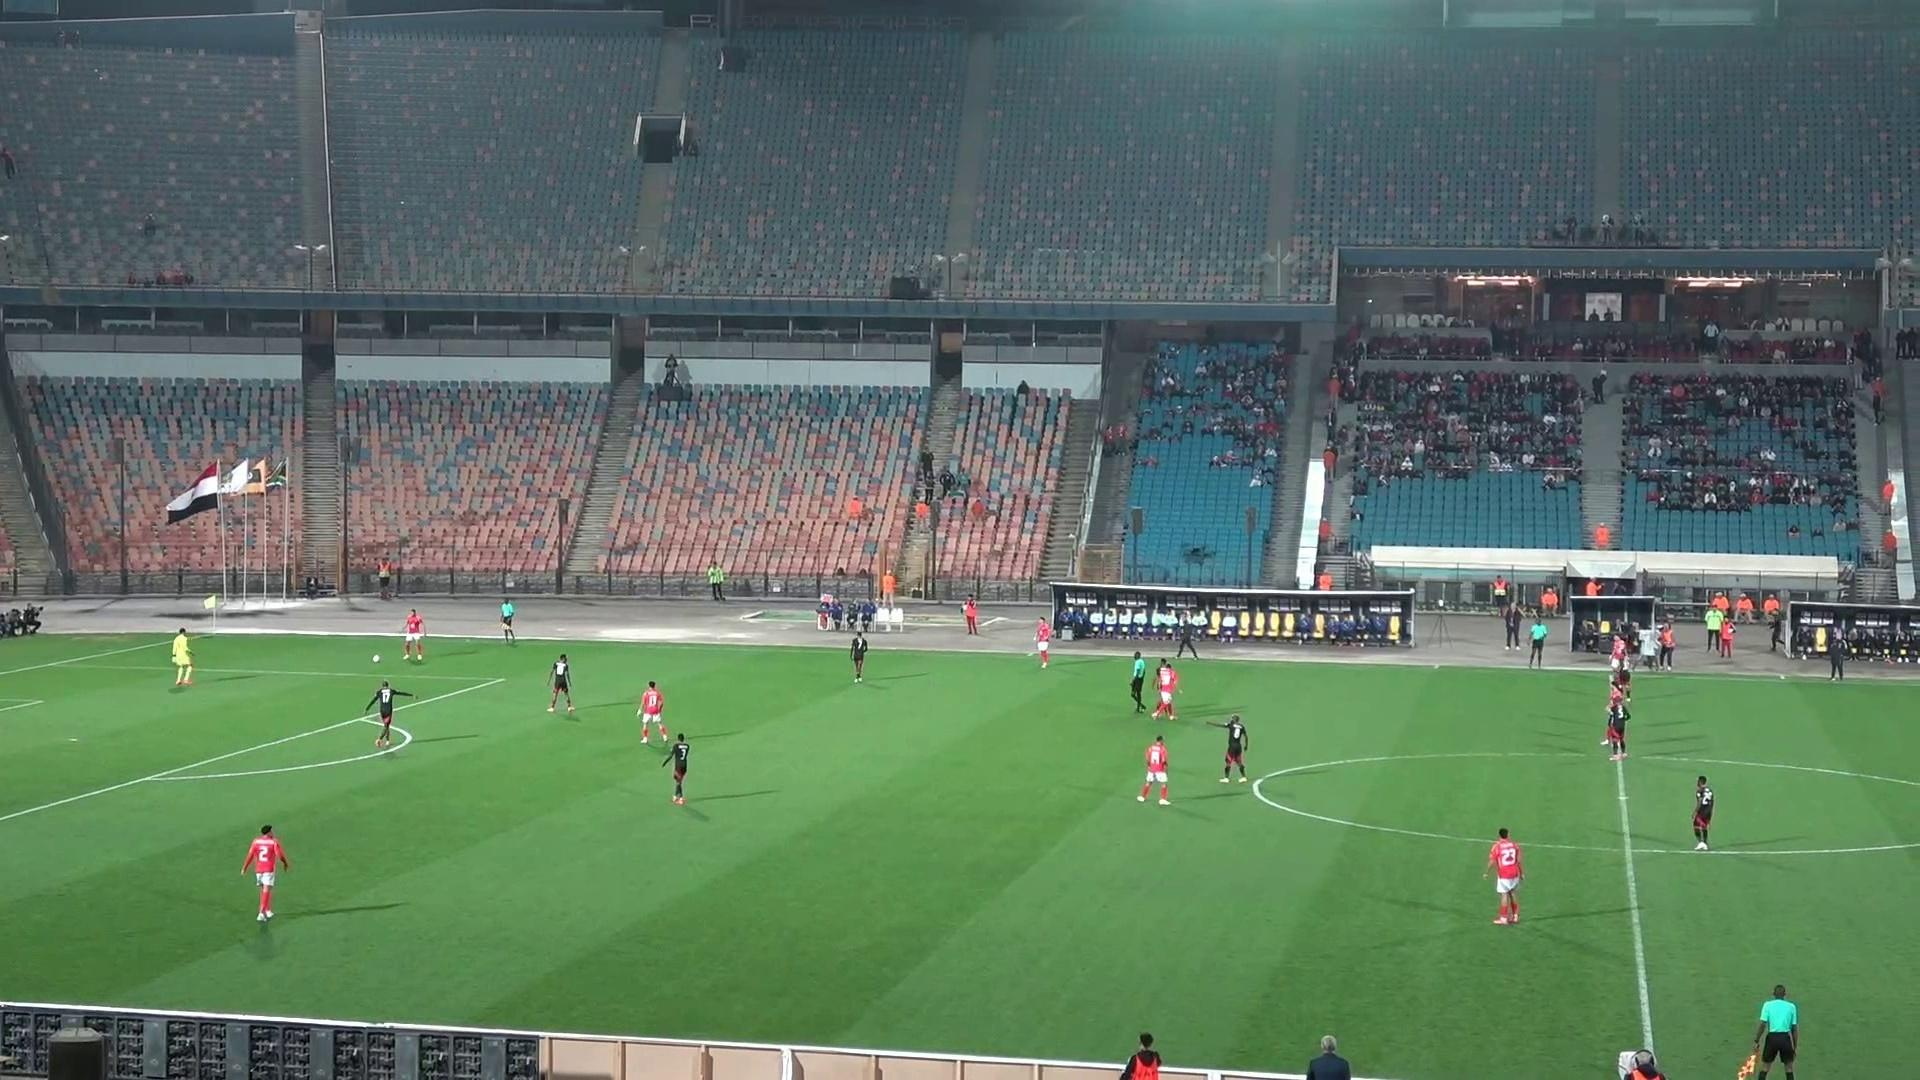Ball: (372, 654, 382, 665)
GK1: (171, 630, 193, 686)
Refree: (1735, 985, 1797, 1079), (1129, 650, 1146, 713), (1528, 617, 1548, 667), (500, 597, 516, 644)
Team1: (243, 824, 289, 923), (1487, 828, 1522, 924), (1135, 735, 1168, 804), (637, 680, 666, 742), (1151, 659, 1178, 720), (402, 609, 425, 662), (1035, 618, 1052, 669), (1609, 626, 1627, 673)
Team2: (363, 679, 414, 748), (1601, 684, 1630, 758), (1218, 713, 1246, 782), (1691, 775, 1716, 851), (665, 735, 690, 804), (547, 653, 574, 713), (851, 630, 869, 683), (1614, 646, 1631, 687)
